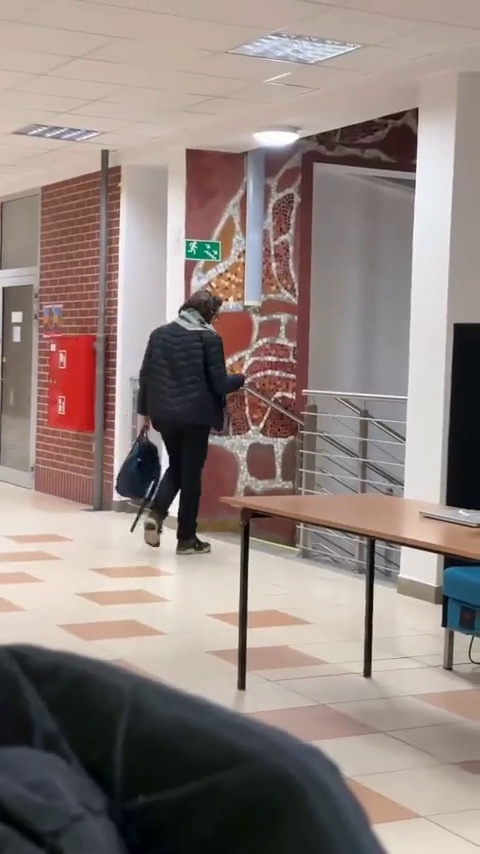no vest: (134, 291, 249, 553)
